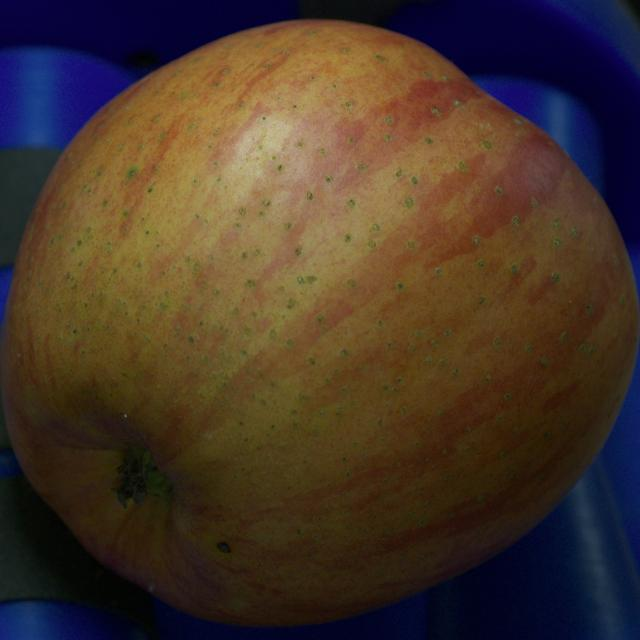apple: (0, 20, 639, 626)
pest: (218, 542, 230, 552)
